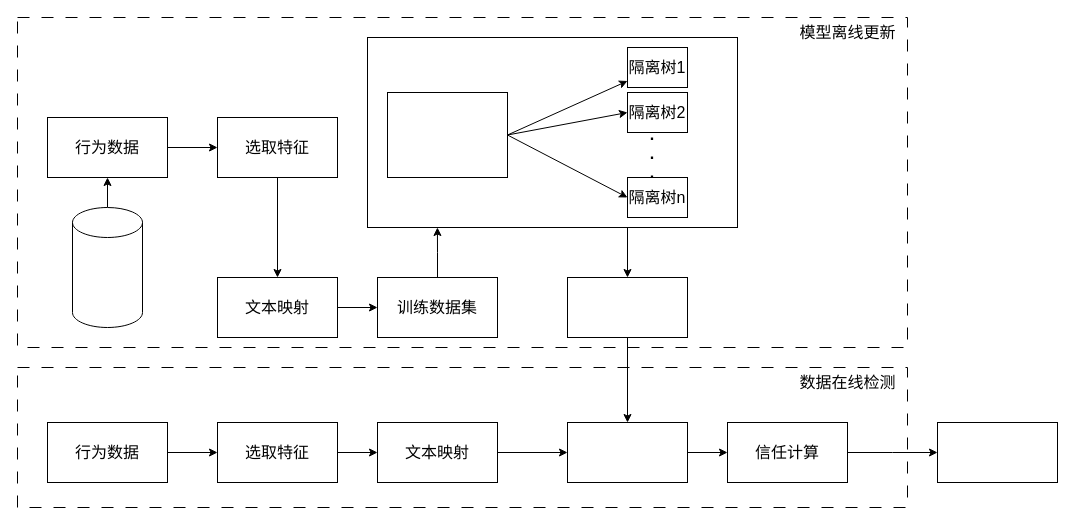
The diagram is 1075 pixels wide and 525 high, and some of its shapes have lost their labels. Each missing label, with the centre of its shape:
"对数据集随机采样" belongs at point 447,135.
"用户历史行为数据" belongs at point 107,267.
"输出结果" belongs at point 997,452.
"遍历森林" belongs at point 627,452.
"隔离森林模型" belongs at point 627,307.
